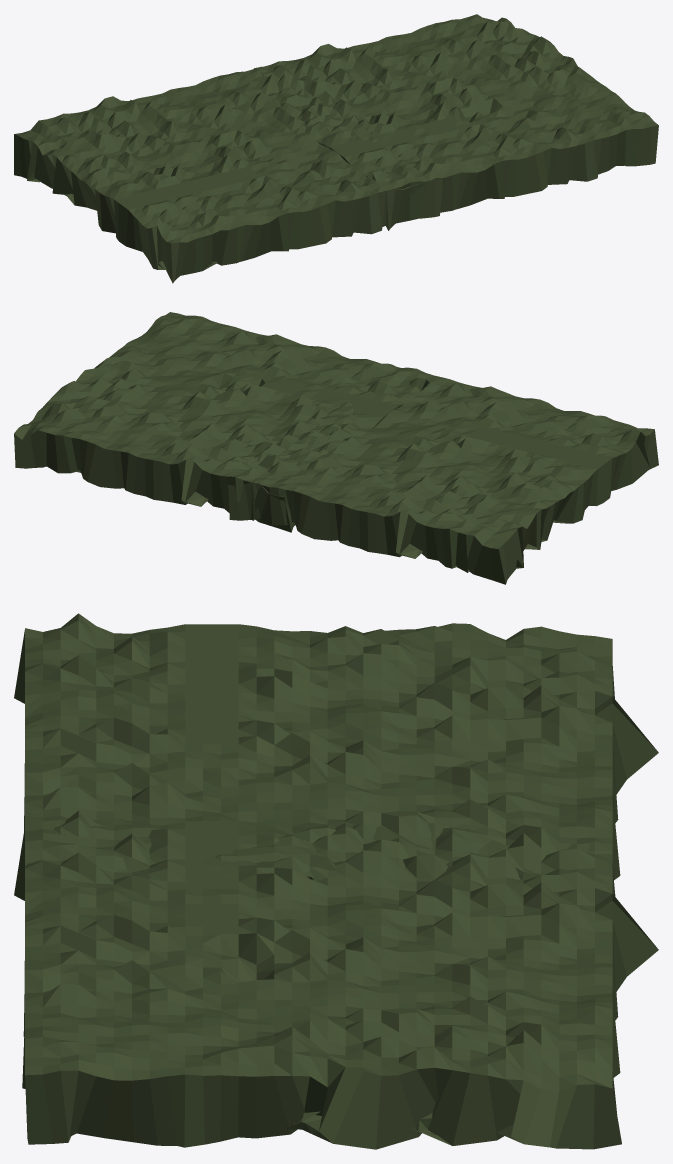
File: 4_City_바닥풀숲수.fbx
The picture shows the model from 3 angles, top to bottom: view 1: azimuth 30°, elevation 25°; view 2: azimuth 150°, elevation 25°; view 3: azimuth 270°, elevation 25°; orthographic projection. The views are drawn at different scales.
Parts seen in each view (by area): view 1: 5_숲_바닥.005, 5_숲_바닥.002; view 2: 5_숲_바닥.005, 5_숲_바닥.002; view 3: 5_숲_바닥.002, 5_숲_바닥.005.
Part boxes in pixels (left/top/right/bottom): 5_숲_바닥.005: left=14, top=66, right=443, bottom=283; 5_숲_바닥.002: left=253, top=14, right=658, bottom=230; 5_숲_바닥.005: left=228, top=367, right=658, bottom=584; 5_숲_바닥.002: left=14, top=312, right=429, bottom=532; 5_숲_바닥.002: left=14, top=810, right=658, bottom=1149; 5_숲_바닥.005: left=14, top=613, right=658, bottom=896.
Bounding box in the file's own units: 27442 × 47166 × 5010.
